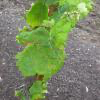grape leaf black rot: (10, 18, 74, 84), (24, 0, 52, 28)
